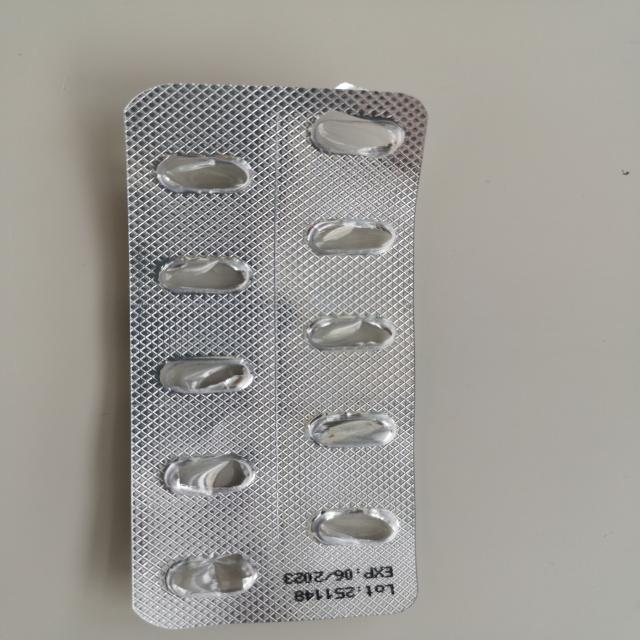Empty: (144, 148, 261, 200), (154, 547, 264, 600), (302, 109, 408, 159), (153, 448, 259, 498), (149, 250, 255, 300), (148, 350, 256, 399), (304, 502, 406, 552), (298, 212, 398, 262), (297, 407, 405, 452), (299, 310, 399, 354)
